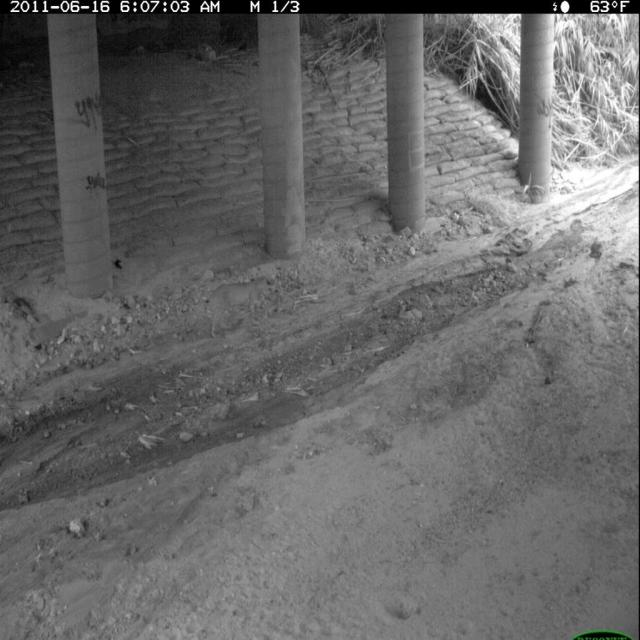bobcat: (203, 274, 272, 342)
